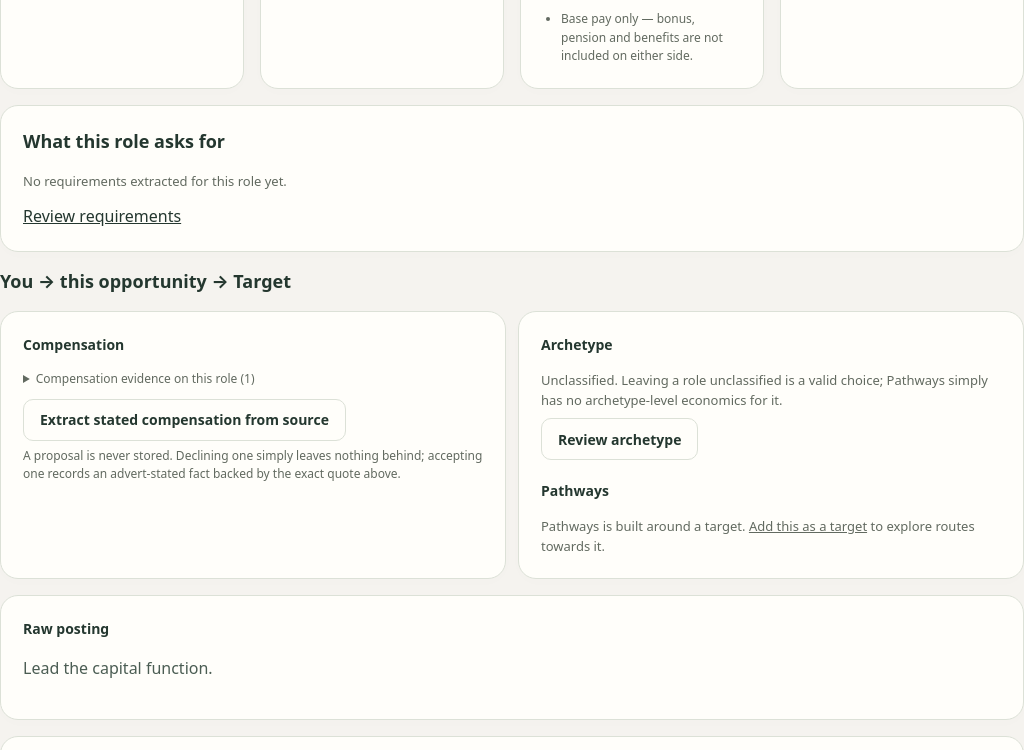
Role Detail — review findings › surfaces the server refusal when a figure is not in its quote
(page scrolled)
Click the heading "Compensation evidence on this role (1)" at (145, 379), box [36,370,254,387]
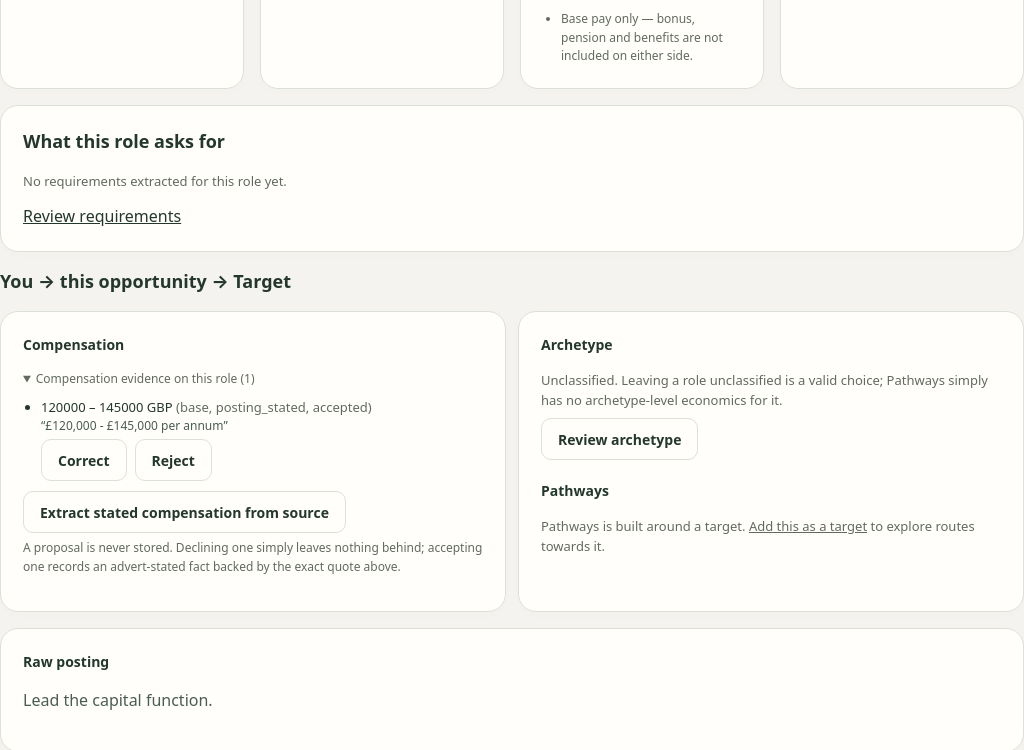
Click the button "Correct" at (84, 460), box [41,440,127,482]
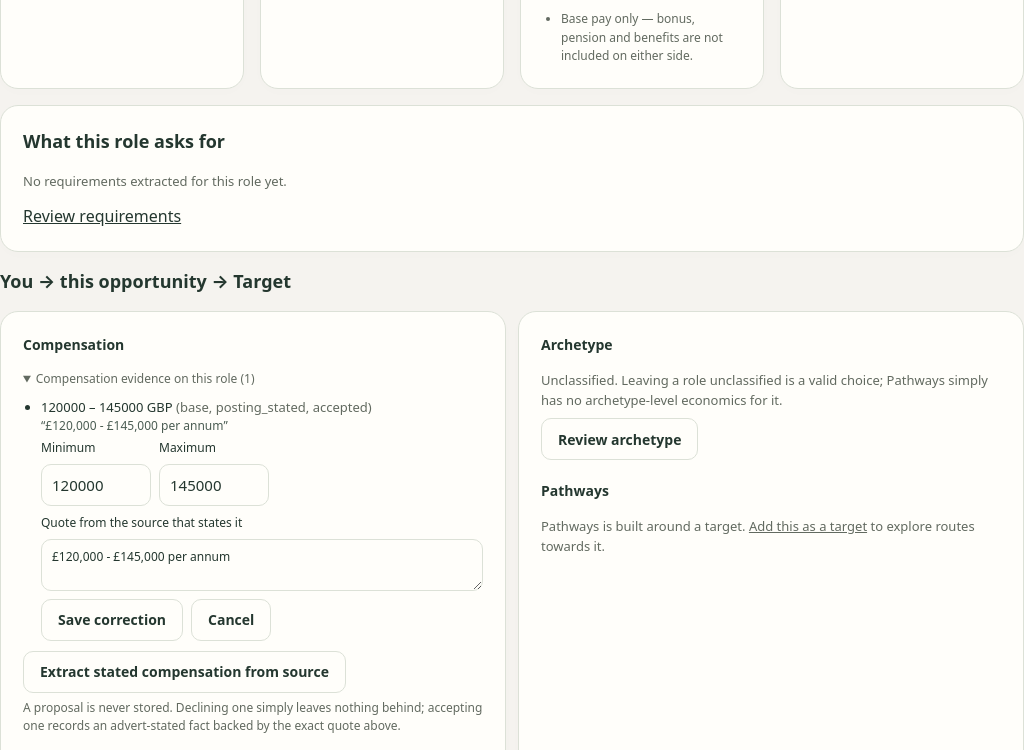
Replace the text in the number field named "Minimum amount for base" with "999999" at (96, 485), box [41,464,151,506]
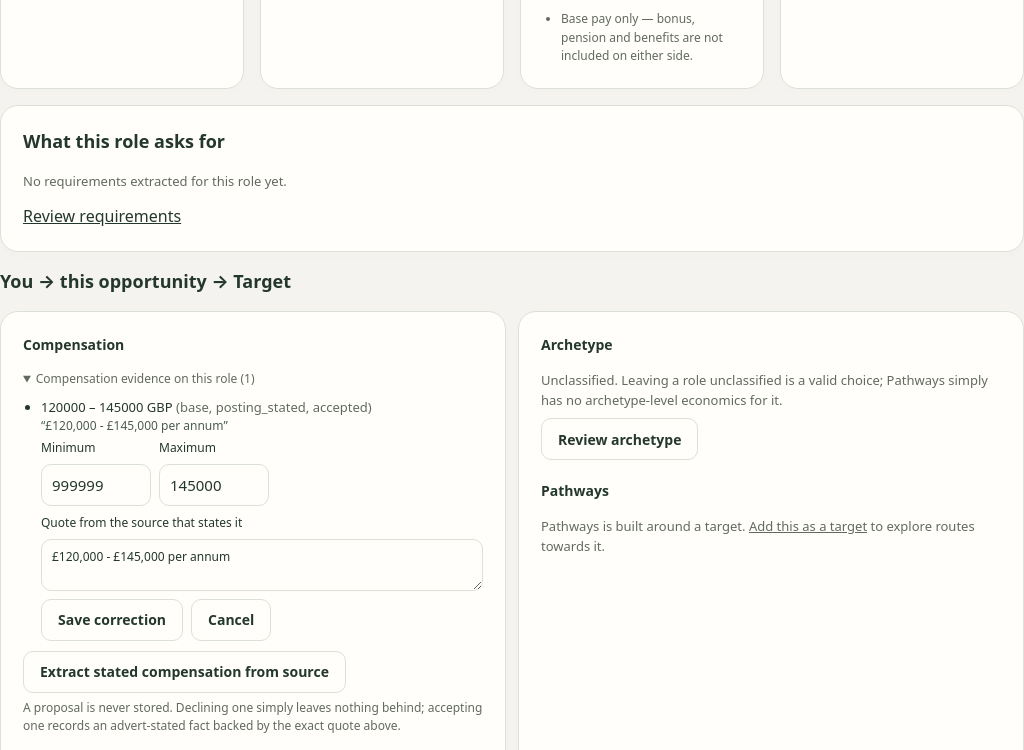
Click the button "Save correction" at (112, 620), box [41,599,183,641]
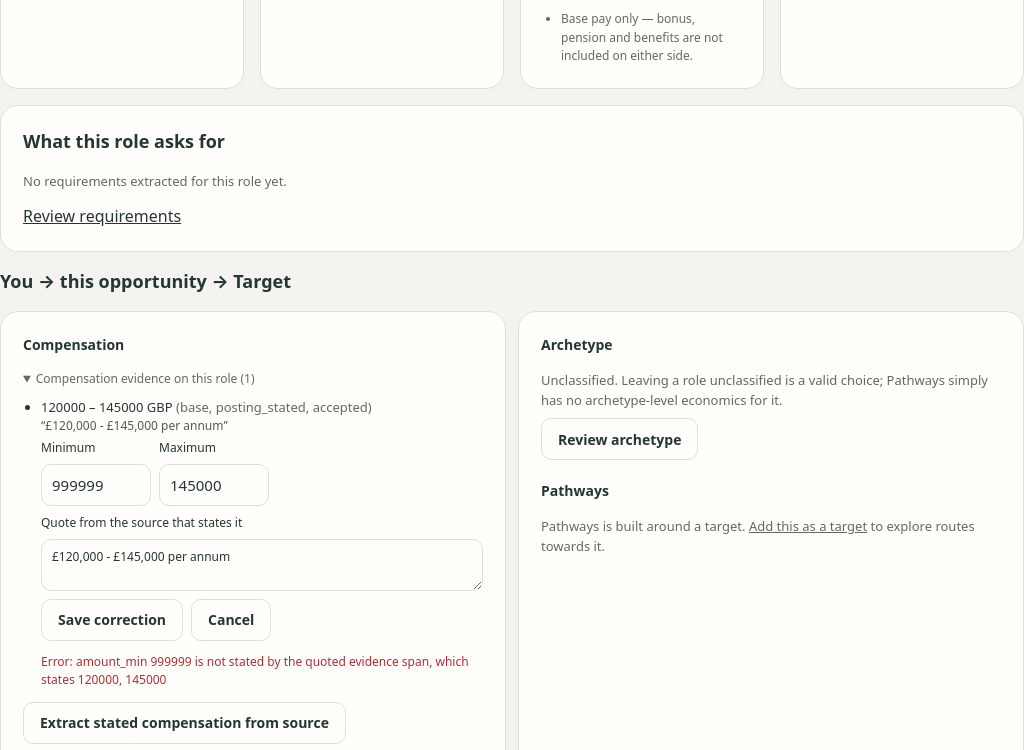
Expected: the message shows "is not stated by the quoted evidence span", [41,653,469,688]
